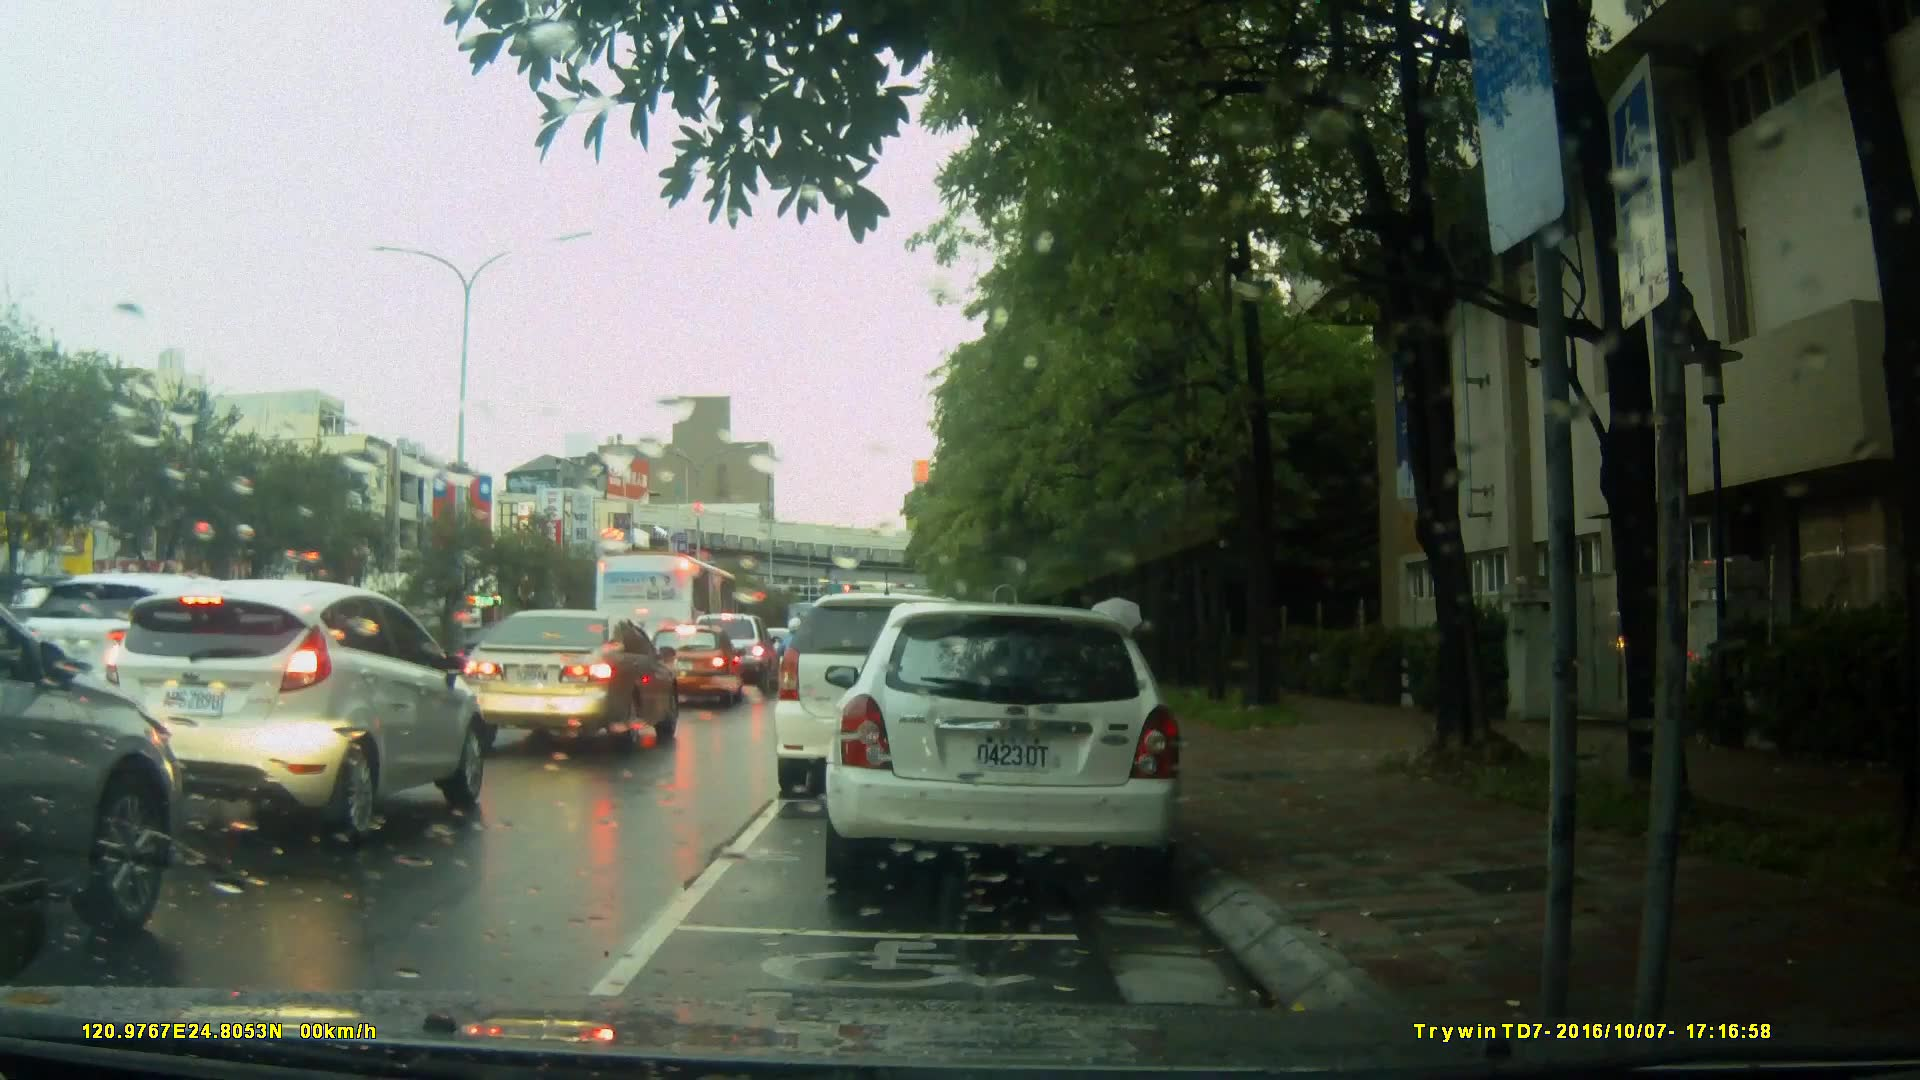vehicle: (835, 593, 1193, 898), (102, 579, 489, 844), (1, 547, 185, 971), (775, 589, 1026, 785), (458, 609, 680, 756), (18, 560, 200, 731), (593, 550, 740, 676), (644, 624, 745, 709)
